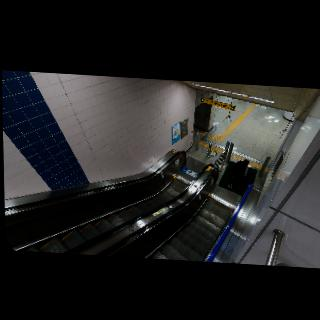anomaly: (225, 155, 250, 193)
